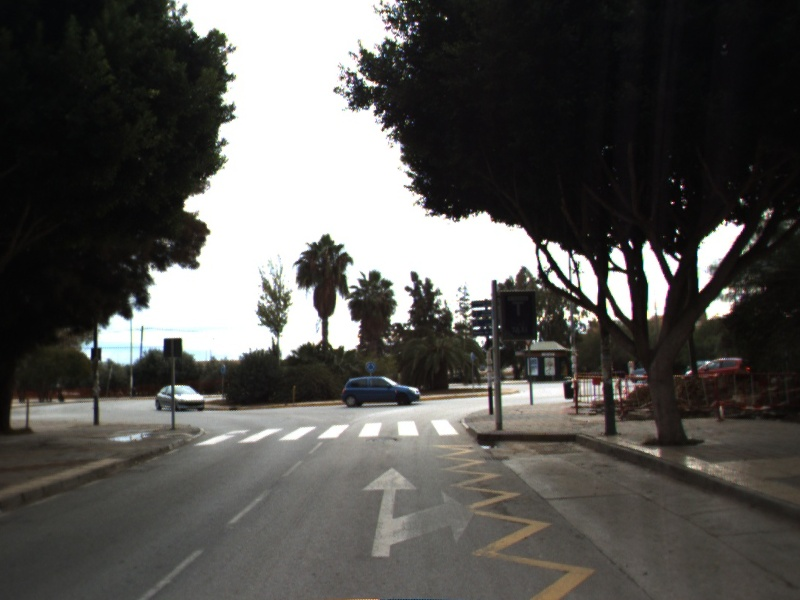STRAIGHT_RIGHT: (359, 465, 478, 559)
